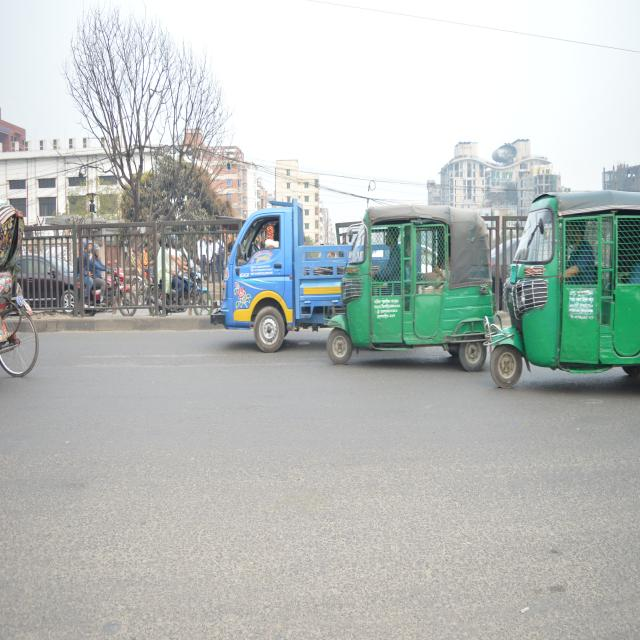car: (10, 246, 78, 312)
motorbike: (148, 264, 212, 328), (75, 271, 142, 319)
pickup-van: (221, 192, 348, 350)
